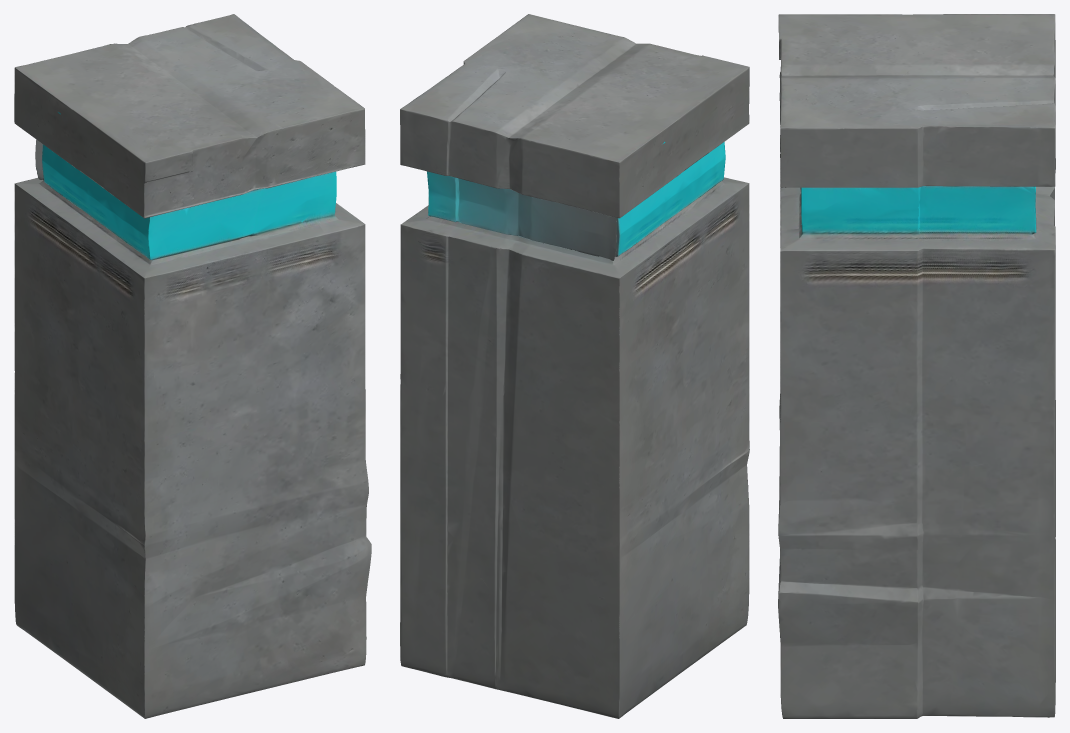
Rendered from pillar.glb.
The picture shows the model from 3 angles, left to right: view 1: azimuth 30°, elevation 25°; view 2: azimuth 150°, elevation 25°; view 3: azimuth 270°, elevation 25°; orthographic projection. The views are drawn at different scales.
Parts seen in each view (by area): view 1: tripo_node_13f22b56-924f-4209-900f-54696288739f; view 2: tripo_node_13f22b56-924f-4209-900f-54696288739f; view 3: tripo_node_13f22b56-924f-4209-900f-54696288739f.
Boxes of the visible parts, left/top/right/bottom form: tripo_node_13f22b56-924f-4209-900f-54696288739f: left=14, top=14, right=371, bottom=718; tripo_node_13f22b56-924f-4209-900f-54696288739f: left=400, top=14, right=749, bottom=718; tripo_node_13f22b56-924f-4209-900f-54696288739f: left=778, top=14, right=1055, bottom=718.
Size of the model in its own units: 0.4256 by 1 by 0.4265.
1 material, 1 textured.
